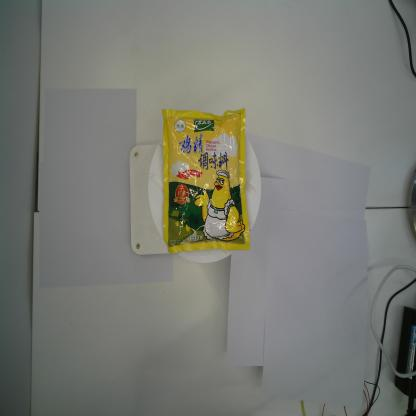Seasoner: (161, 107, 251, 256)
